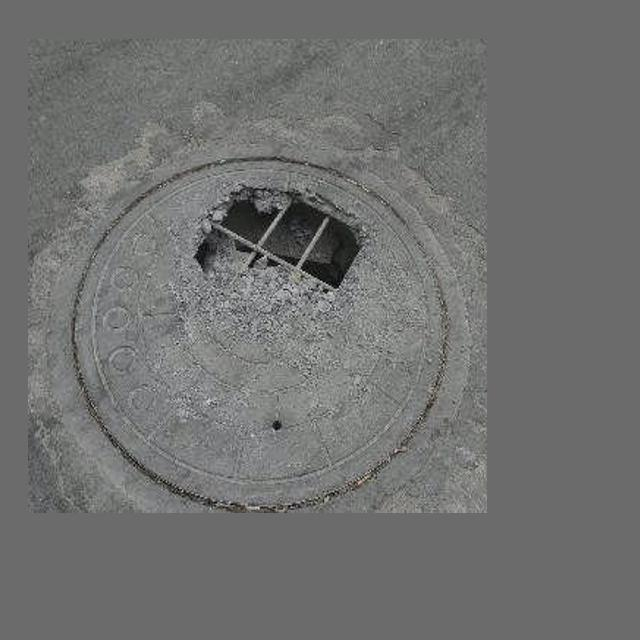broke: (71, 156, 463, 509)
